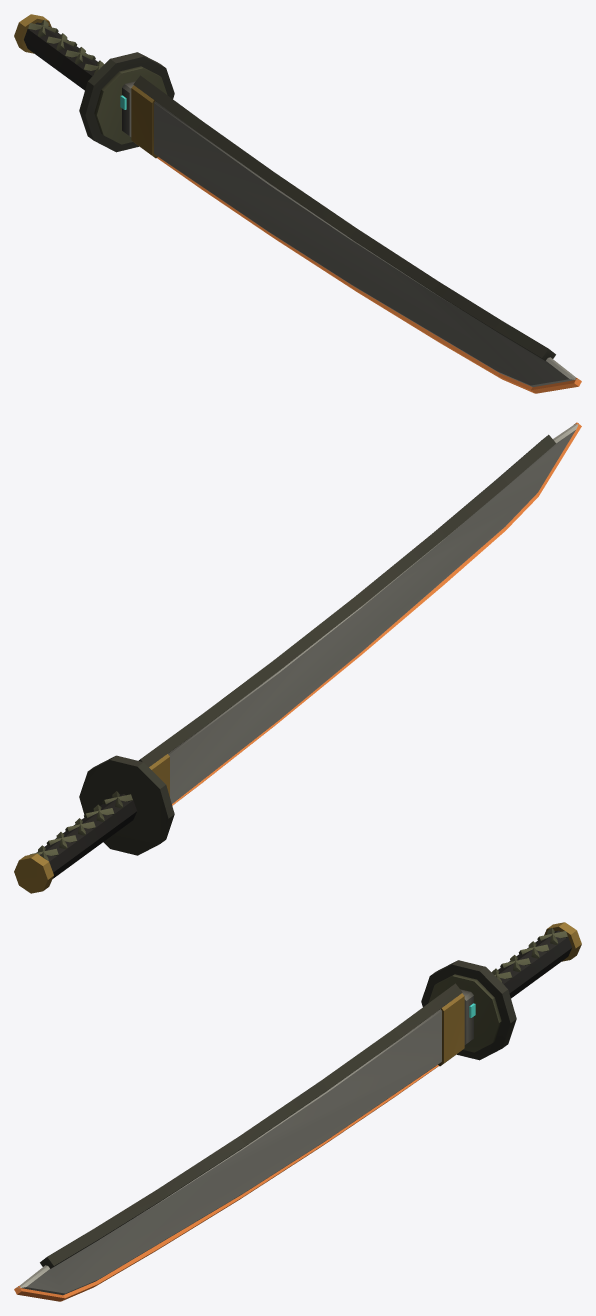
The model's file is sword-light.glb.
The picture shows the model from 3 angles, top to bottom: view 1: azimuth 30°, elevation 25°; view 2: azimuth 150°, elevation 25°; view 3: azimuth 330°, elevation 25°; orthographic projection.
Visible parts, largest first — view 1: Blade_Mesh, Body, Blade_Glow; view 2: Blade_Mesh, Body, Blade_Glow; view 3: Blade_Mesh, Body, Blade_Glow.
Part boxes in pixels (x1,y1,x2,y2): Blade_Mesh: [131, 75, 578, 387]; Body: [14, 14, 174, 152]; Blade_Glow: [157, 157, 581, 393]; Blade_Mesh: [138, 423, 578, 803]; Body: [14, 755, 174, 893]; Blade_Glow: [172, 422, 581, 805]; Blade_Mesh: [17, 983, 464, 1295]; Body: [421, 922, 581, 1060]; Blade_Glow: [14, 1065, 438, 1301].
Size of the model in its own units: 0.5 by 0.5708 by 5.31.
